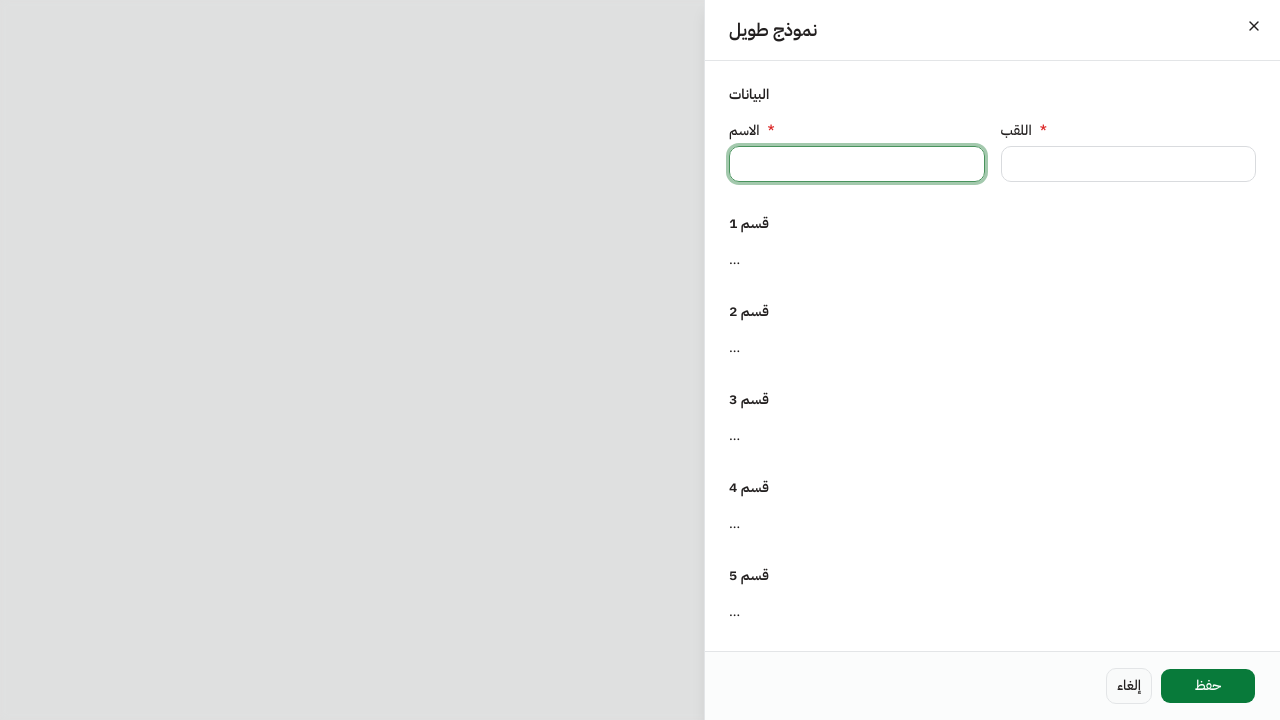
form-level errors next to the action buttons › an API error after «حفظ» appears once, right above the buttons, outside the scrolling body
Type "أنس" into the field labelled "الاسم *".
click(857, 164); type("أنس")  # box x1=729 y1=146 x2=984 y2=182
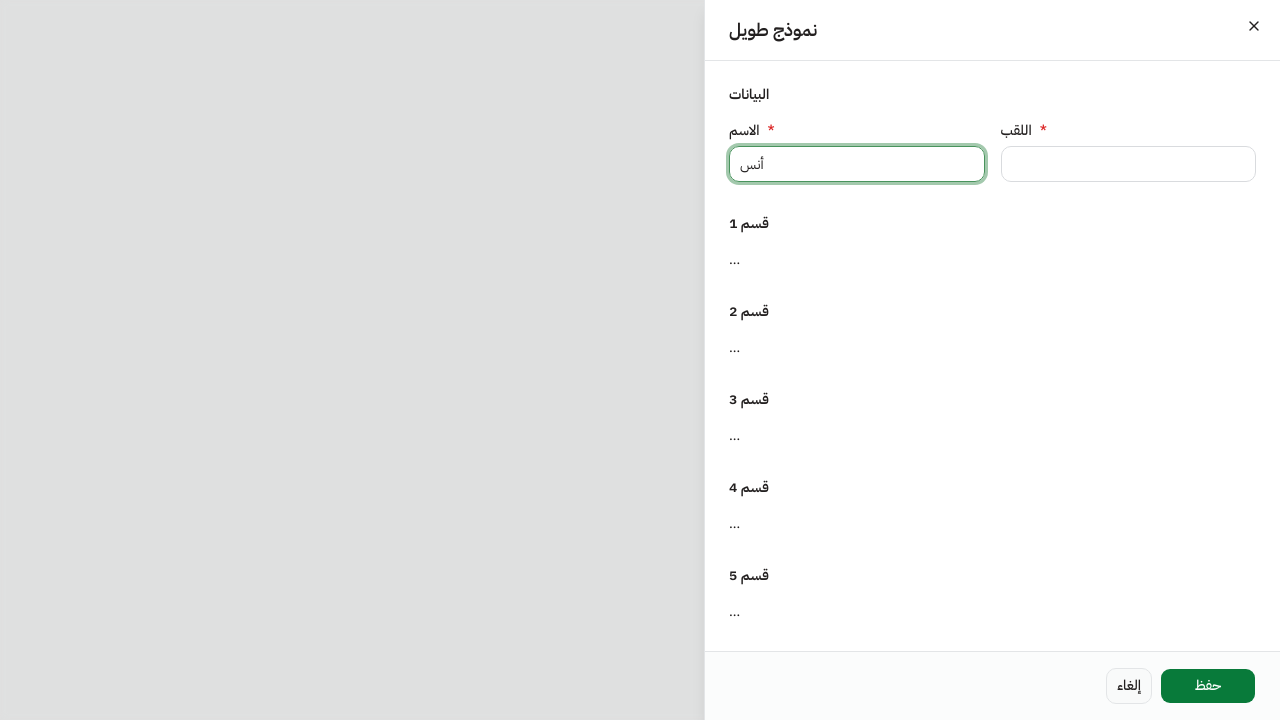
Type "التونسي" into the field labelled "اللقب *".
click(1128, 164); type("التونسي")  # box x1=1000 y1=146 x2=1256 y2=182
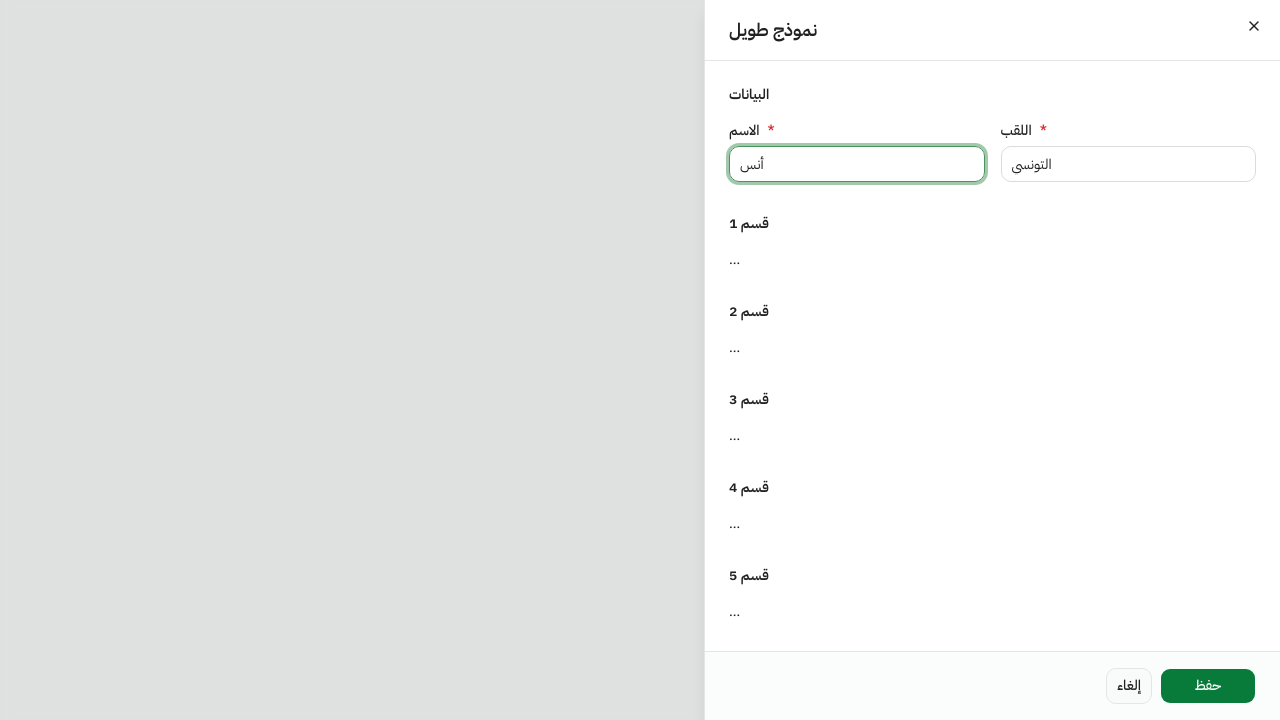
Click the button "حفظ".
click(1208, 686)  # box x1=1160 y1=668 x2=1256 y2=704
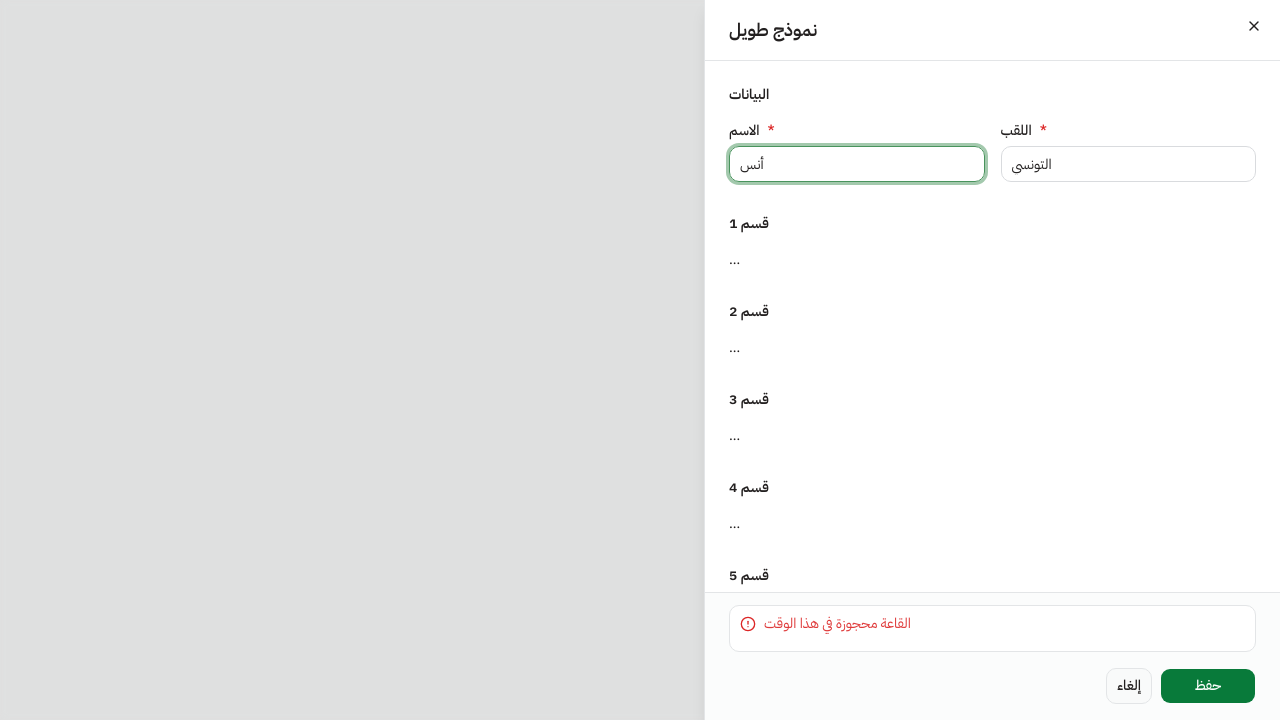
Now the number of messages is 1, box x1=729 y1=605 x2=1256 y2=652
